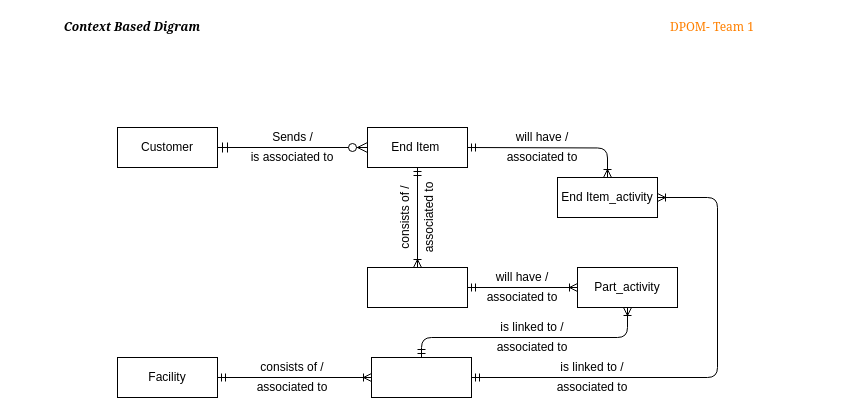
The diagram is 844 pixels wide and 415 high, and some of its shapes have lost their labels. Here are the shapes that lost their labels. From the top down, the centre of each, then its label:
At pixel 417 287: "Part".
At pixel 421 377: "Department".
